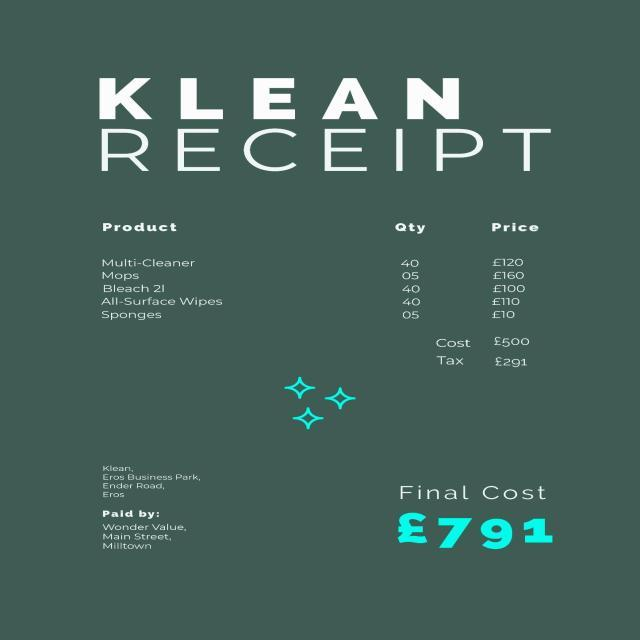ROI: (95, 216, 549, 326), (88, 124, 566, 182), (82, 62, 490, 124), (387, 472, 565, 553), (83, 455, 209, 502), (420, 331, 544, 374), (90, 507, 198, 556)
